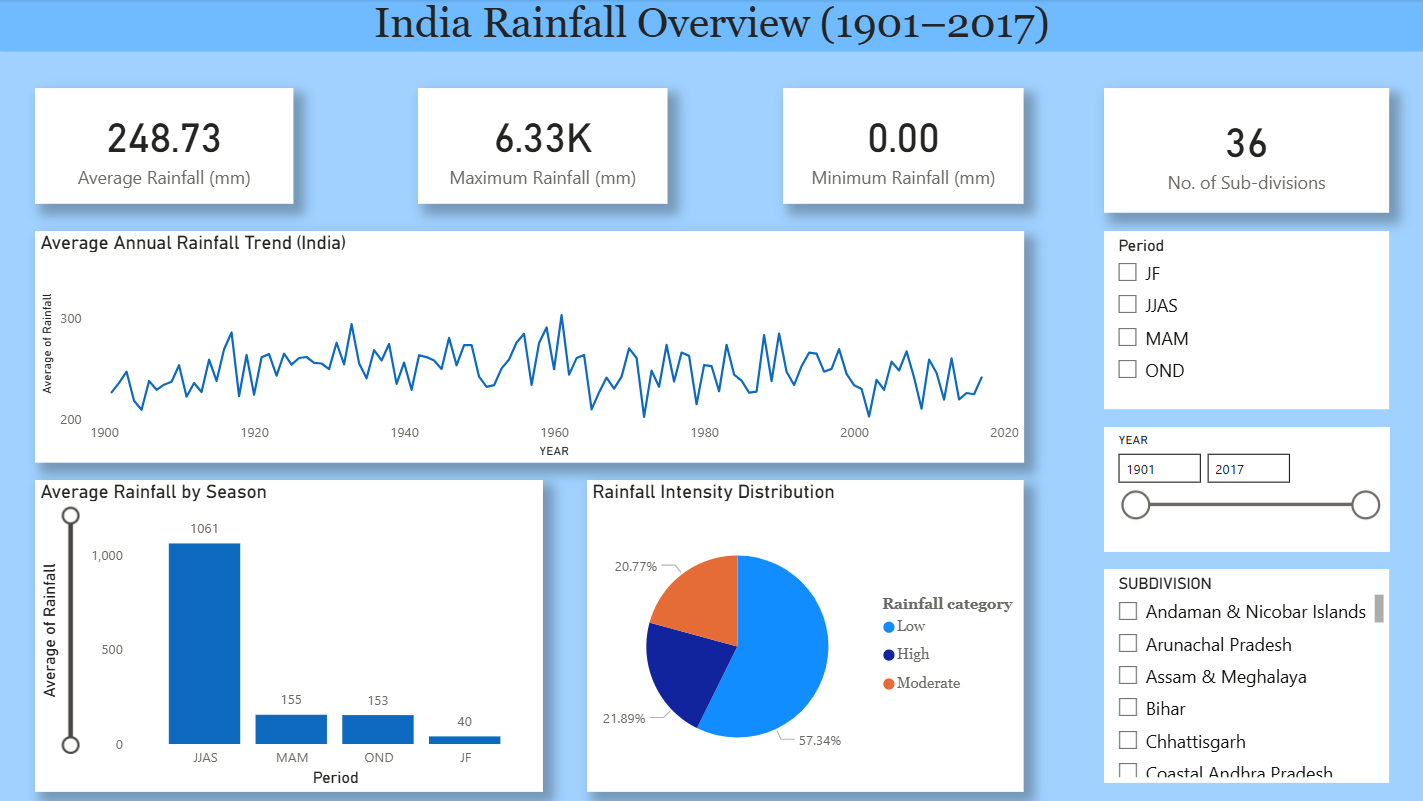

The page's visual inventory and layout, read from the dashboard file:
{"tool":"powerbi","page":{"name":"Overview","canvas":[1280,720],"ordinal":0},"visuals":[{"type":"lineChart","title":"Average Annual Rainfall Trend (India)","fields":{"Category":["Fact_Rainfall.YEAR"],"Y":["Avg(Fact_Rainfall.Rainfall)"]},"box":[32,208,888,208],"z":1000},{"type":"card","fields":{"Values":["Avg(Fact_Rainfall.Rainfall)"]},"box":[32,80,232,104],"z":2000},{"type":"card","fields":{"Values":["Max(Fact_Rainfall.Rainfall)"]},"box":[376,80,224,104],"z":3000},{"type":"card","fields":{"Values":["Min(Fact_Rainfall.Rainfall)"]},"box":[704,80,216,104],"z":4000},{"type":"card","fields":{"Values":["Count(Dim_Subdivision.SUBDIVISION)"]},"box":[992,80,256,112],"z":5000},{"type":"clusteredColumnChart","title":"Average Rainfall by Season","fields":{"Category":["Fact_Rainfall.Period"],"Y":["Avg(Fact_Rainfall.Rainfall)"]},"box":[32,432,456,280],"z":6000},{"type":"donutChart","title":"Rainfall Intensity Distribution","fields":{"Category":["Fact_Rainfall.Rainfall category"],"Y":["CountNonNull(Fact_Rainfall.Rainfall_ID)"]},"box":[528,432,392,280],"z":7000},{"type":"slicer","fields":{"Values":["Dim_Year.YEAR"]},"box":[992,384,256,112],"z":8000},{"type":"slicer","fields":{"Values":["Dim_Subdivision.SUBDIVISION"]},"box":[992,512,256,192],"z":9000},{"type":"slicer","fields":{"Values":["Dim_Period.Period"]},"box":[992,208,256,160],"z":10000},{"type":"textbox","title":" India Rainfall Overview (1901–2017)","box":[0,0,1280,48],"z":11000}]}

Visuals, with their boxes in screenshot pixels (x1, y1, x2, y2), scaled from the page's 1280x720 canvas onto the 1423x801 screenshot:
"Average Annual Rainfall Trend (India)" lineChart: 36/231/1023/463
card - Avg(Fact_Rainfall.Rainfall): 36/89/293/205
card - Max(Fact_Rainfall.Rainfall): 418/89/667/205
card - Min(Fact_Rainfall.Rainfall): 783/89/1023/205
card - Count(Dim_Subdivision.SUBDIVISION): 1103/89/1387/214
"Average Rainfall by Season" clusteredColumnChart: 36/481/543/792
"Rainfall Intensity Distribution" donutChart: 587/481/1023/792
slicer - Dim_Year.YEAR: 1103/427/1387/552
slicer - Dim_Subdivision.SUBDIVISION: 1103/570/1387/783
slicer - Dim_Period.Period: 1103/231/1387/409
" India Rainfall Overview (1901–2017)" textbox: 0/0/1422/53
